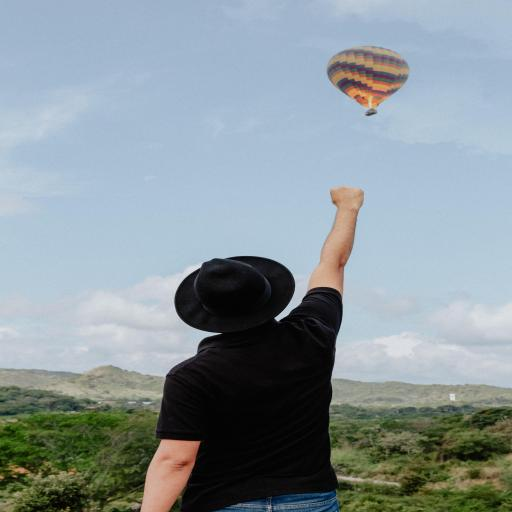hot air ballon: (323, 42, 413, 119)
